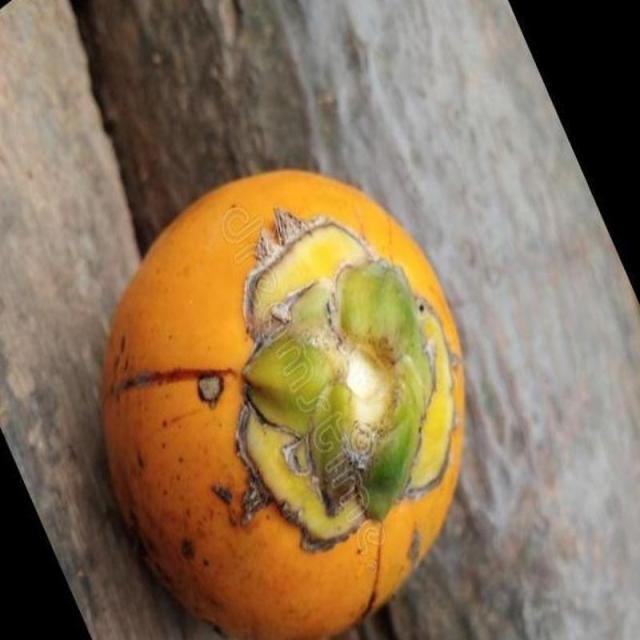good: (98, 169, 470, 639)
